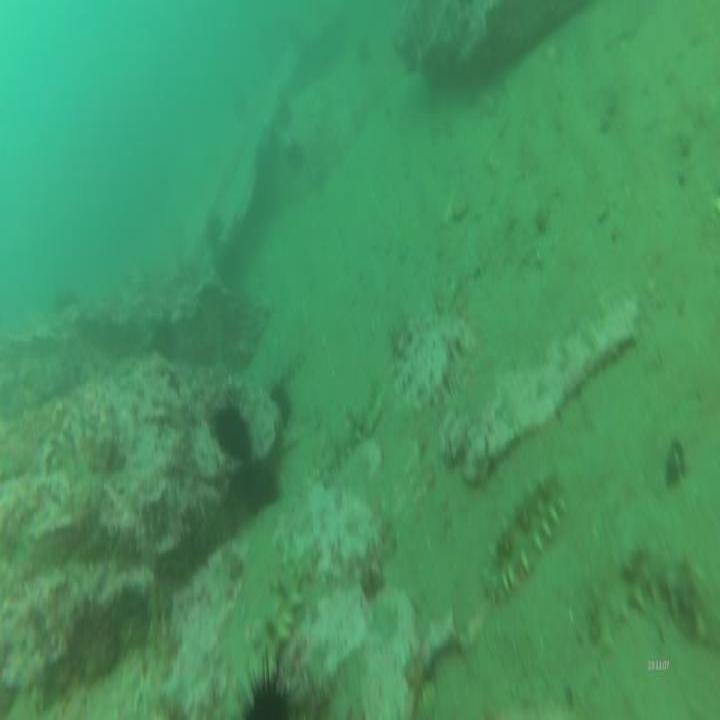echinus: (209, 380, 260, 466), (237, 658, 302, 720)
holothurian: (591, 540, 720, 656), (477, 473, 571, 611), (248, 528, 320, 676), (312, 373, 387, 482)
